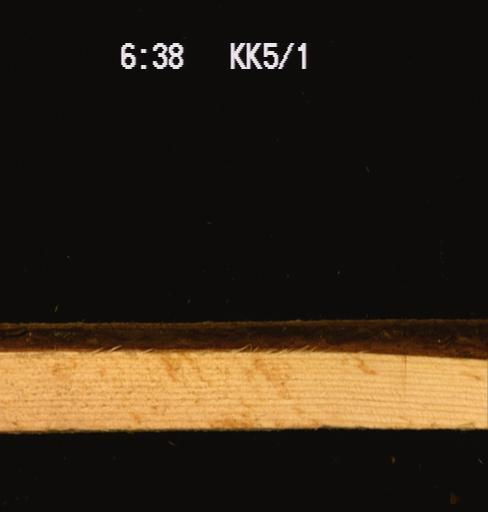wave: (0, 317, 487, 360)
